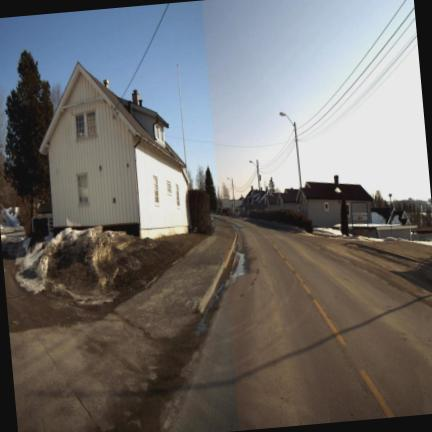Road: (163, 220, 431, 431)
